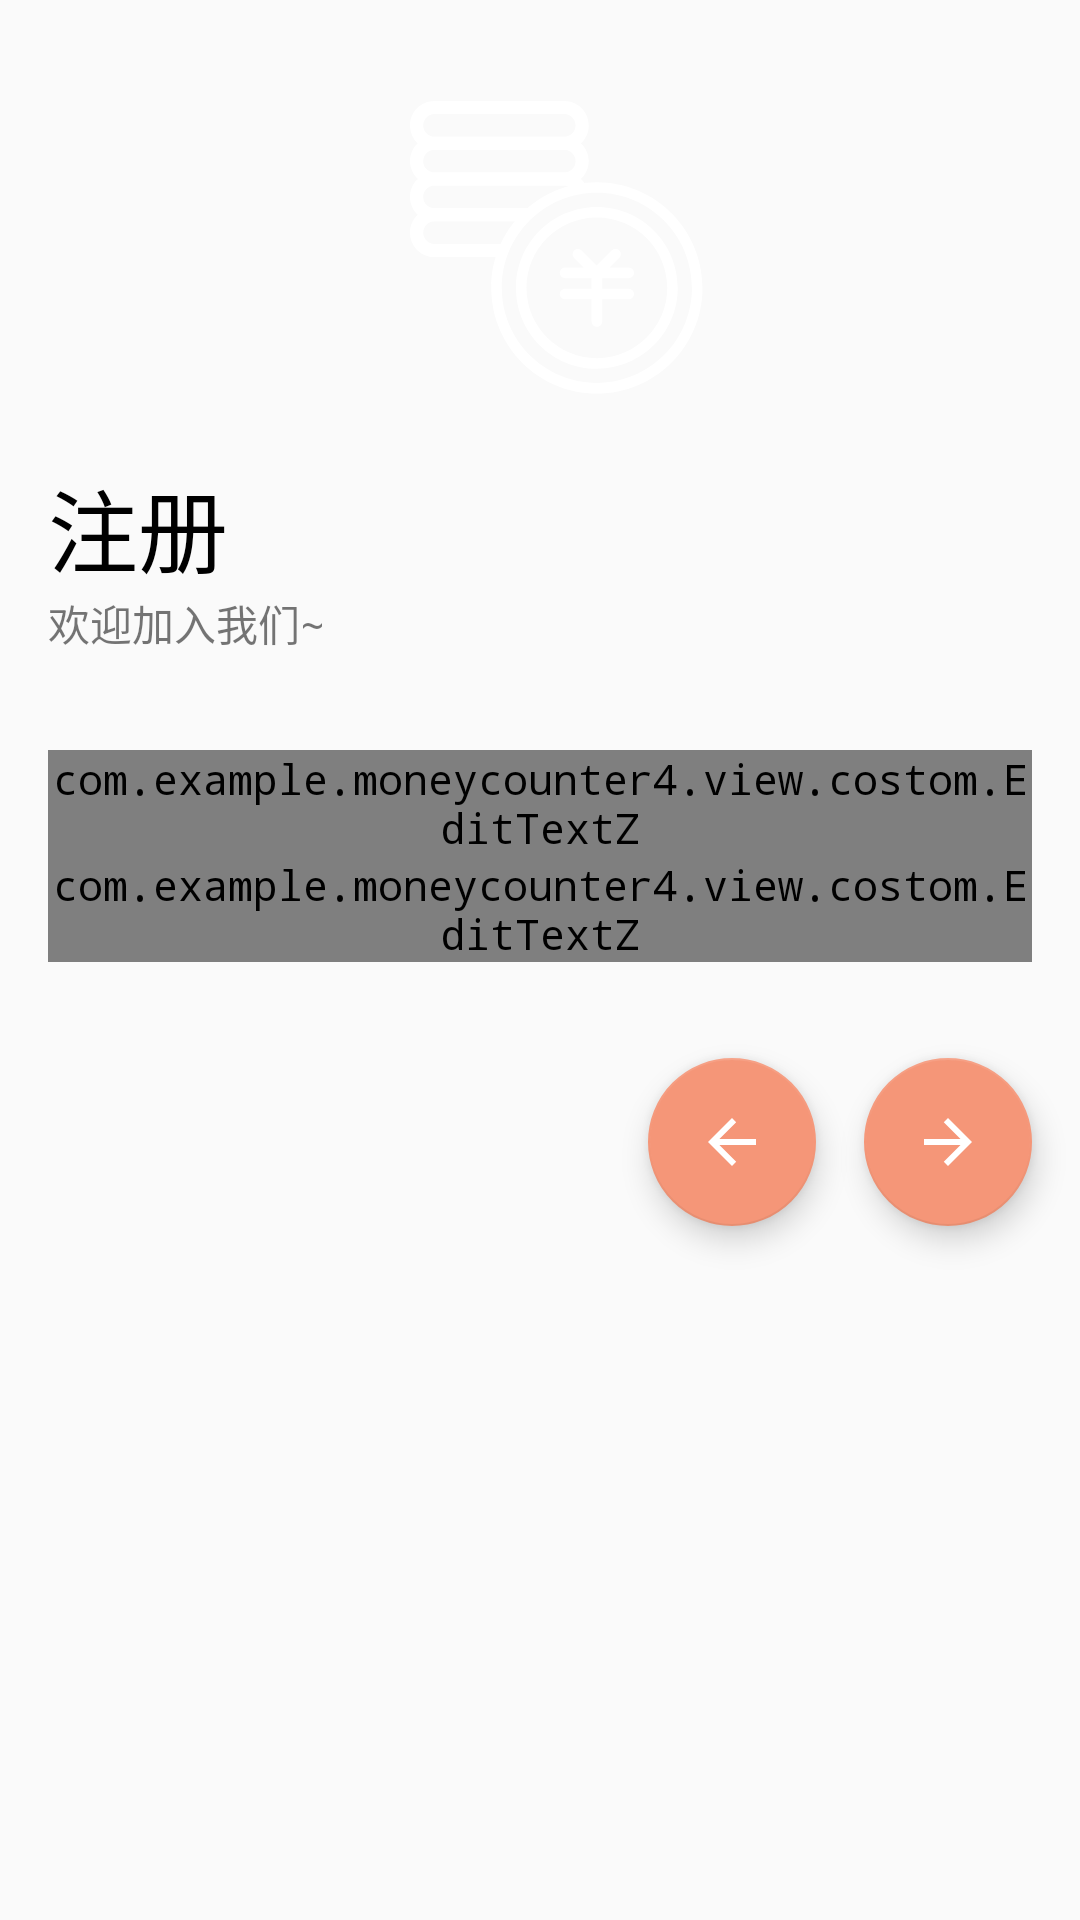

Icons on this 1080x1920 Android screen, each with its box as (x1, y1, x2, y2):
arrow forward: (864, 1058, 1032, 1226)
